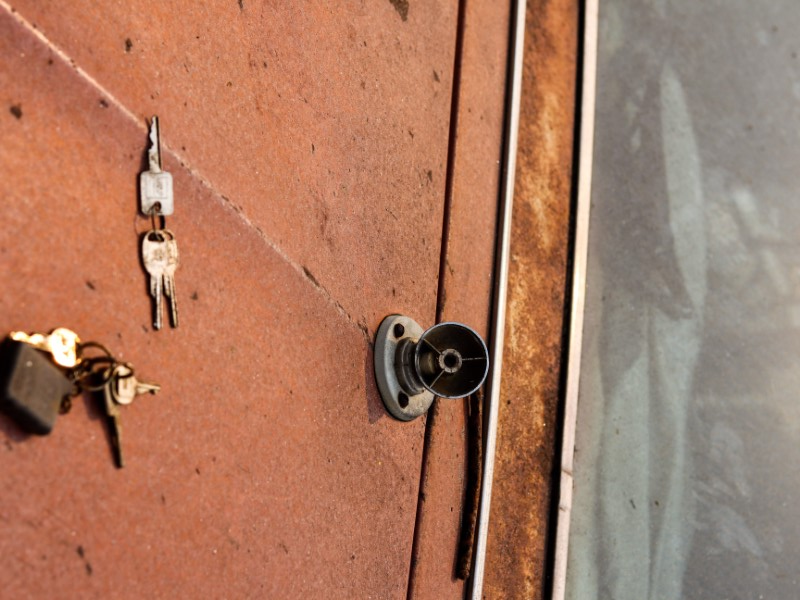key: (1, 324, 164, 471), (133, 116, 185, 330)
